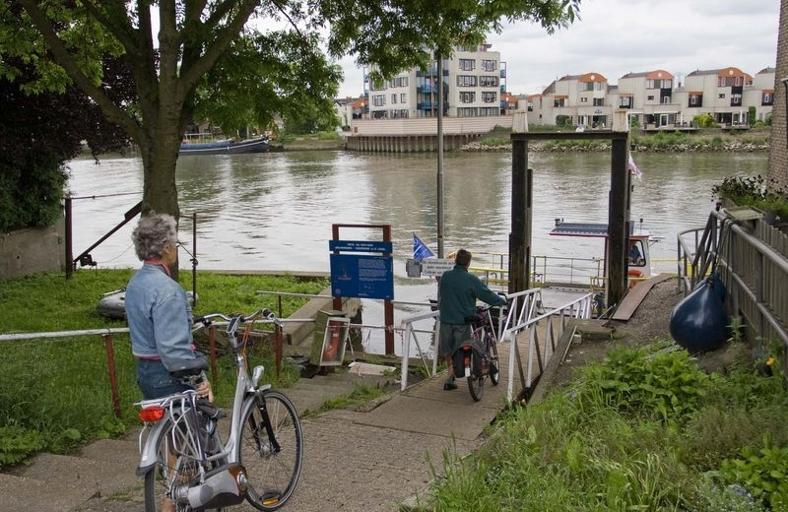non-vehicle: (131, 306, 303, 511), (457, 293, 509, 402)
